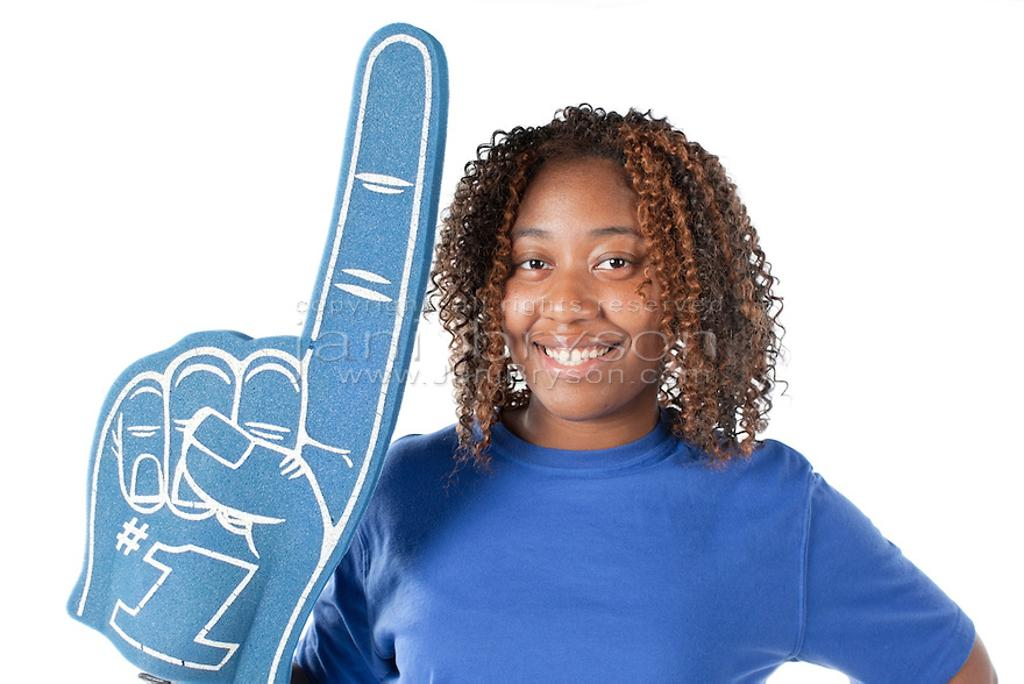face: (502, 184, 666, 422)
